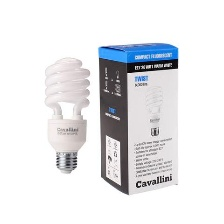carton: (90, 37, 184, 200)
light_bulb: (38, 52, 96, 177)
